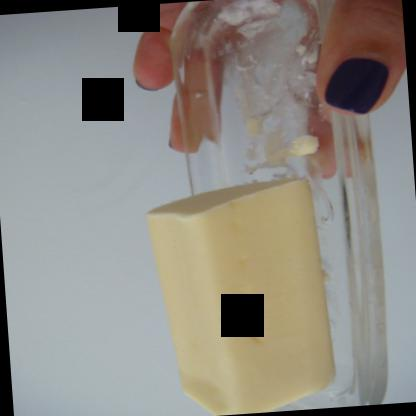butter: (148, 182, 336, 415)
